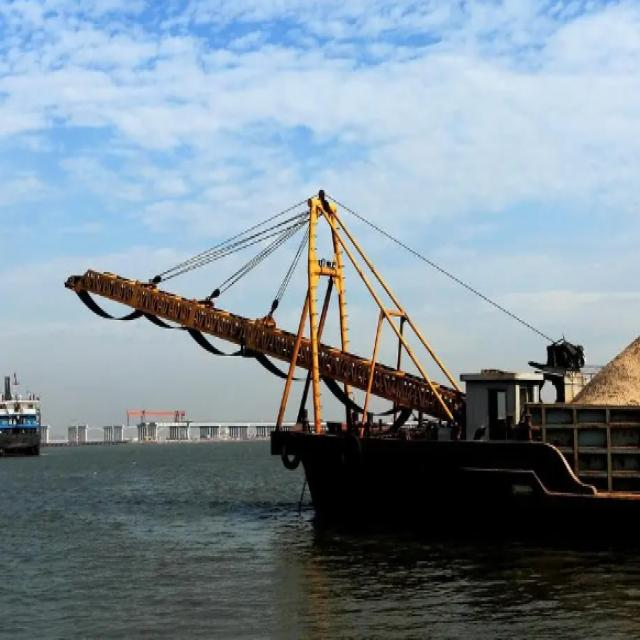fishing boat: (0, 352, 44, 448)
